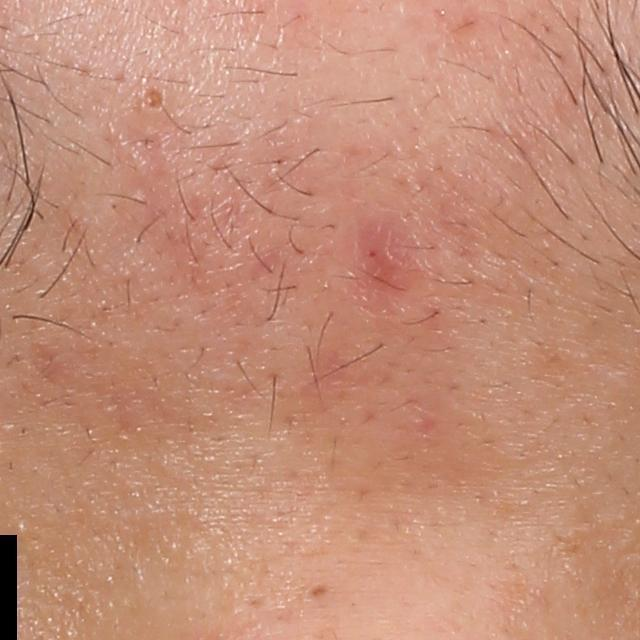comedo: (131, 85, 179, 117)
